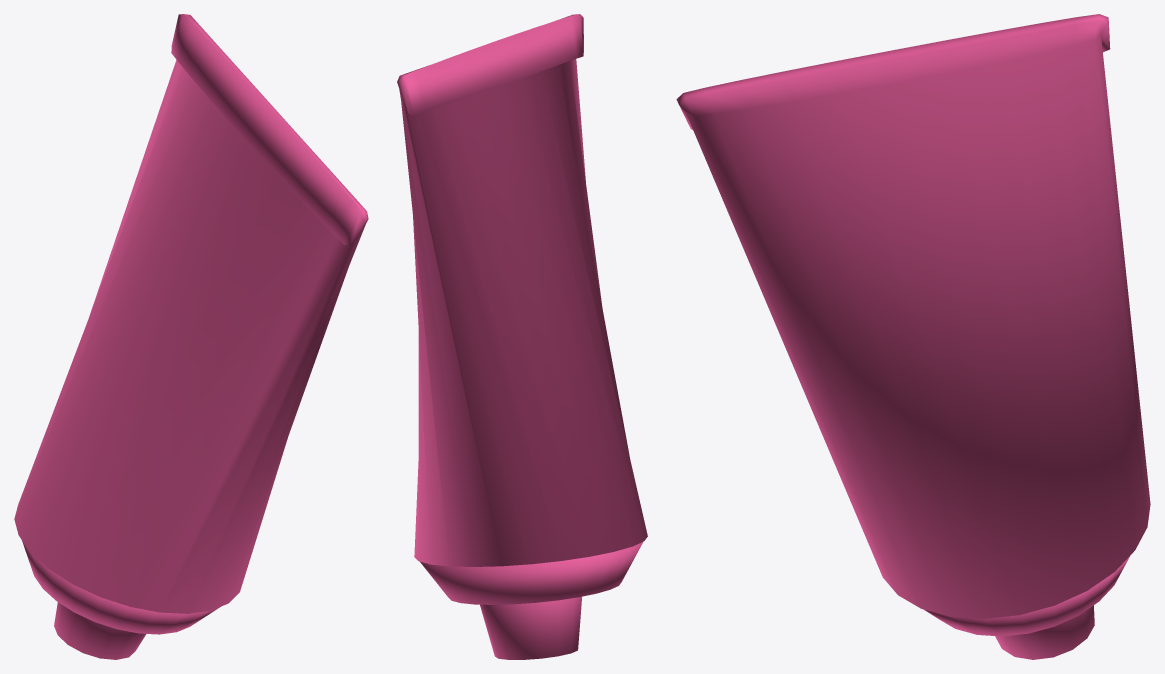
The model's file is gluesmoothfbx.fbx.
3 renders of one model, left to right at view 1: azimuth 30°, elevation 25°; view 2: azimuth 150°, elevation 25°; view 3: azimuth 270°, elevation 25°, orthographic. The views are drawn at different scales.
Parts seen in each view (by area): view 1: Cylinder; view 2: Cylinder; view 3: Cylinder.
Boxes of the visible parts, x1,y1,x2,y2 form: Cylinder: (14,14,368,659); Cylinder: (397,14,647,659); Cylinder: (676,14,1150,659).
Bounding box in the file's own units: 128 × 349 × 217.
